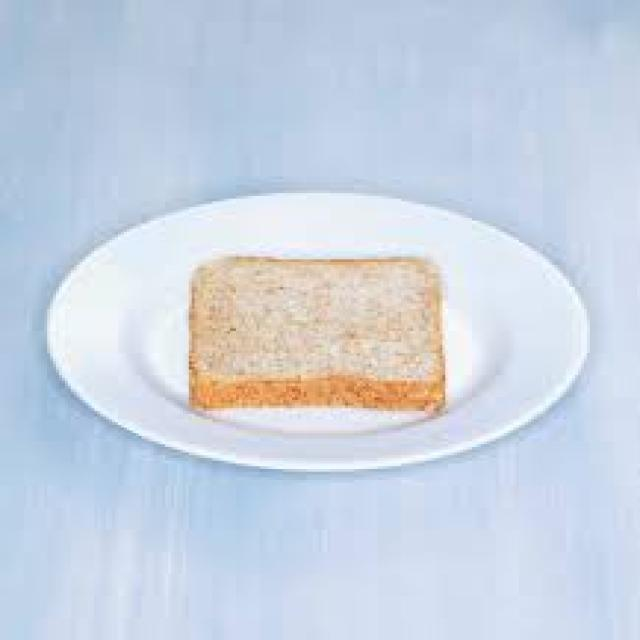Bread: (192, 256, 445, 412)
